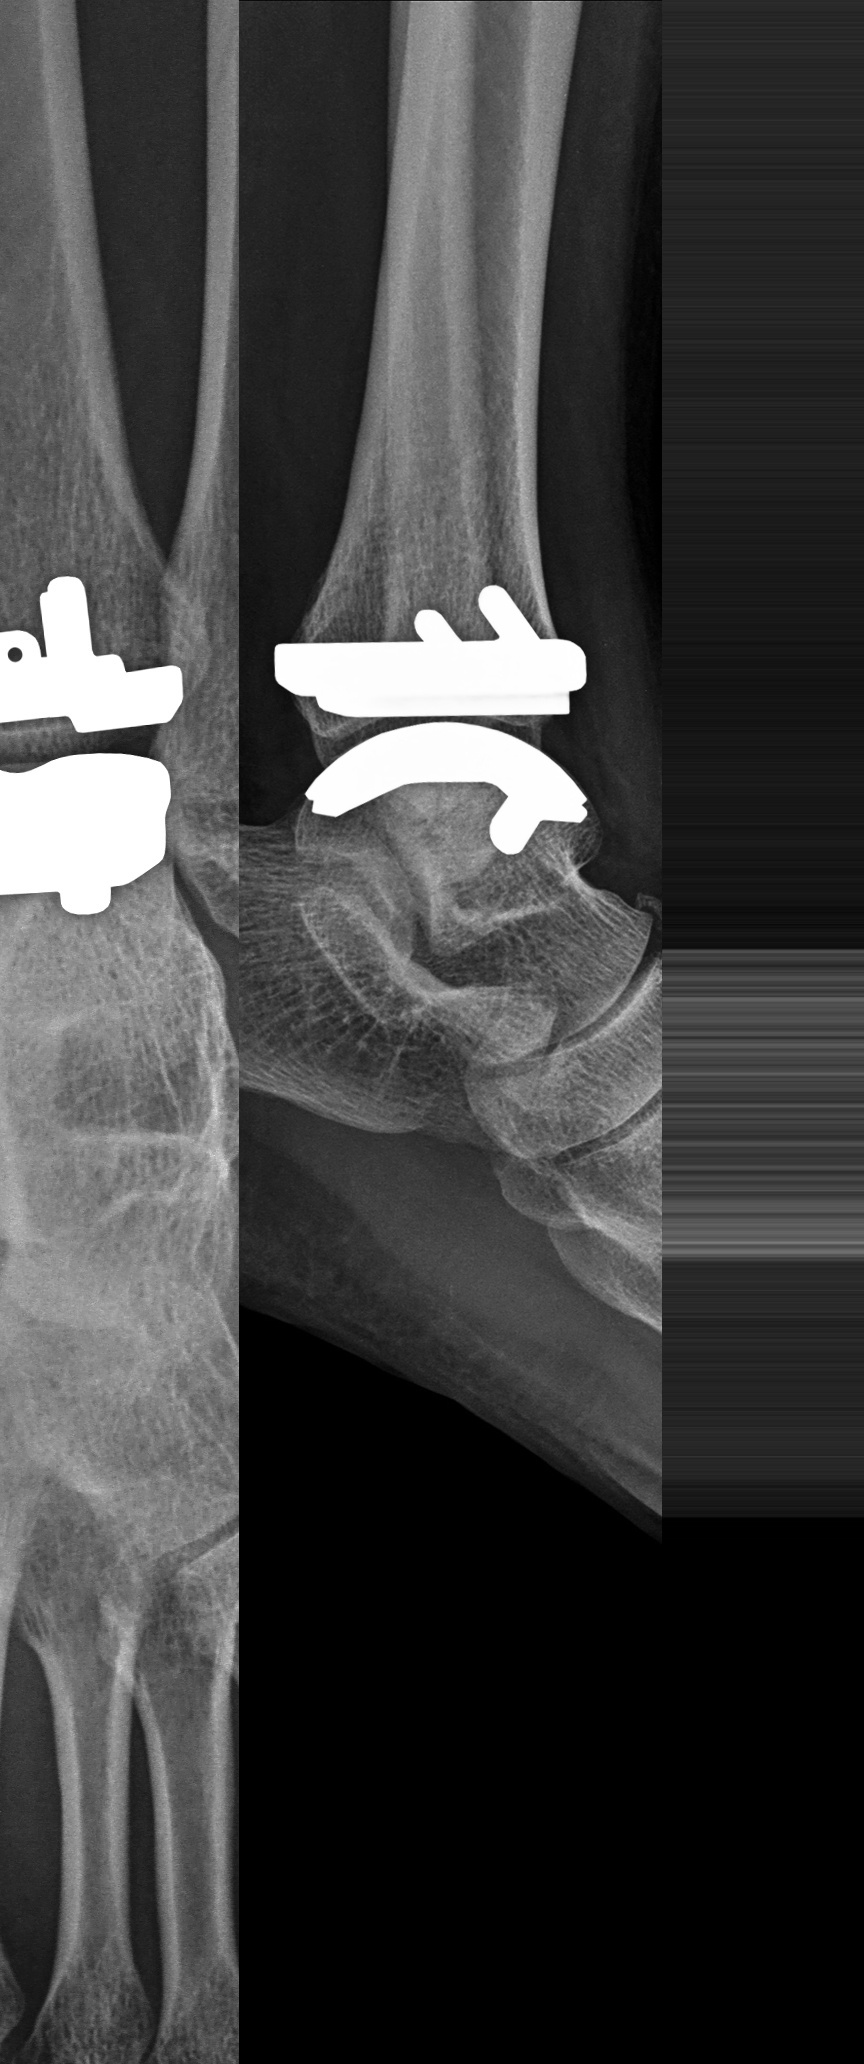Cadence-Integra: (259, 566, 628, 869), (1, 563, 196, 932)
